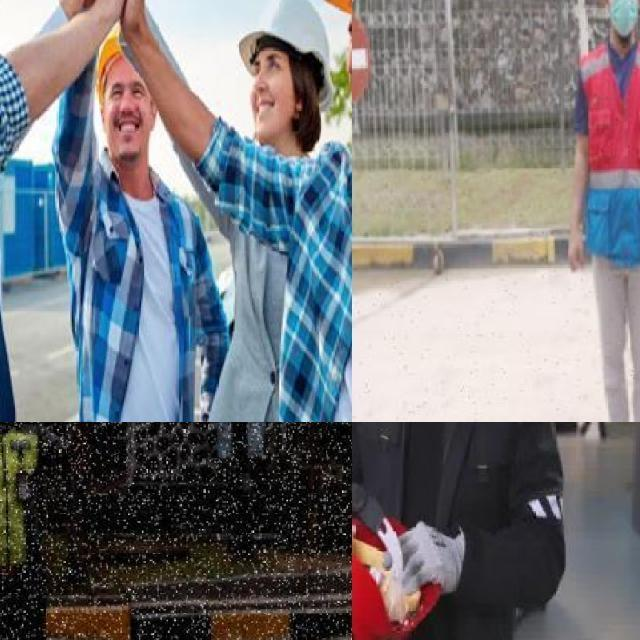apron: (382, 518, 457, 600)
